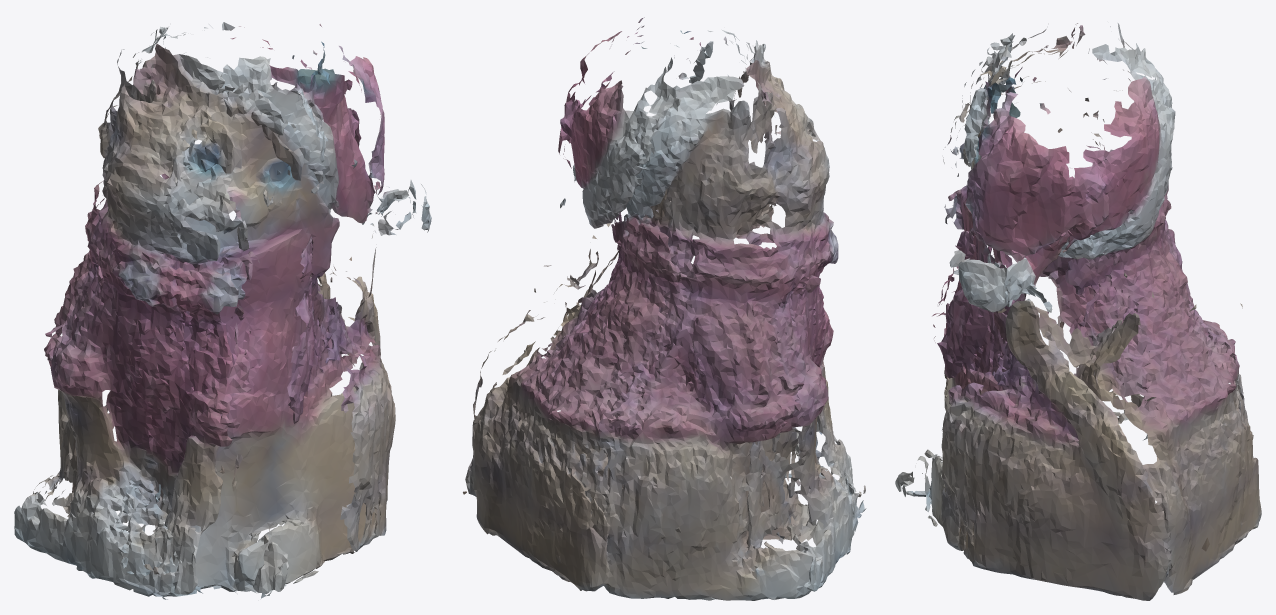
Rendered from finished_model_20260520_123020.glb.
The picture shows the model from 3 angles, left to right: view 1: azimuth 30°, elevation 25°; view 2: azimuth 150°, elevation 25°; view 3: azimuth 270°, elevation 25°; orthographic projection. The views are drawn at different scales.
Visible parts, largest first — view 1: finished_model_20260520_123020.ply; view 2: finished_model_20260520_123020.ply; view 3: finished_model_20260520_123020.ply.
Boxes of the visible parts, x1,y1,x2,y2 form: finished_model_20260520_123020.ply: (14, 22, 431, 599); finished_model_20260520_123020.ply: (463, 17, 866, 600); finished_model_20260520_123020.ply: (895, 23, 1261, 600).
Bounding box in the file's own units: 0.0815 × 0.1112 × 0.0763.
